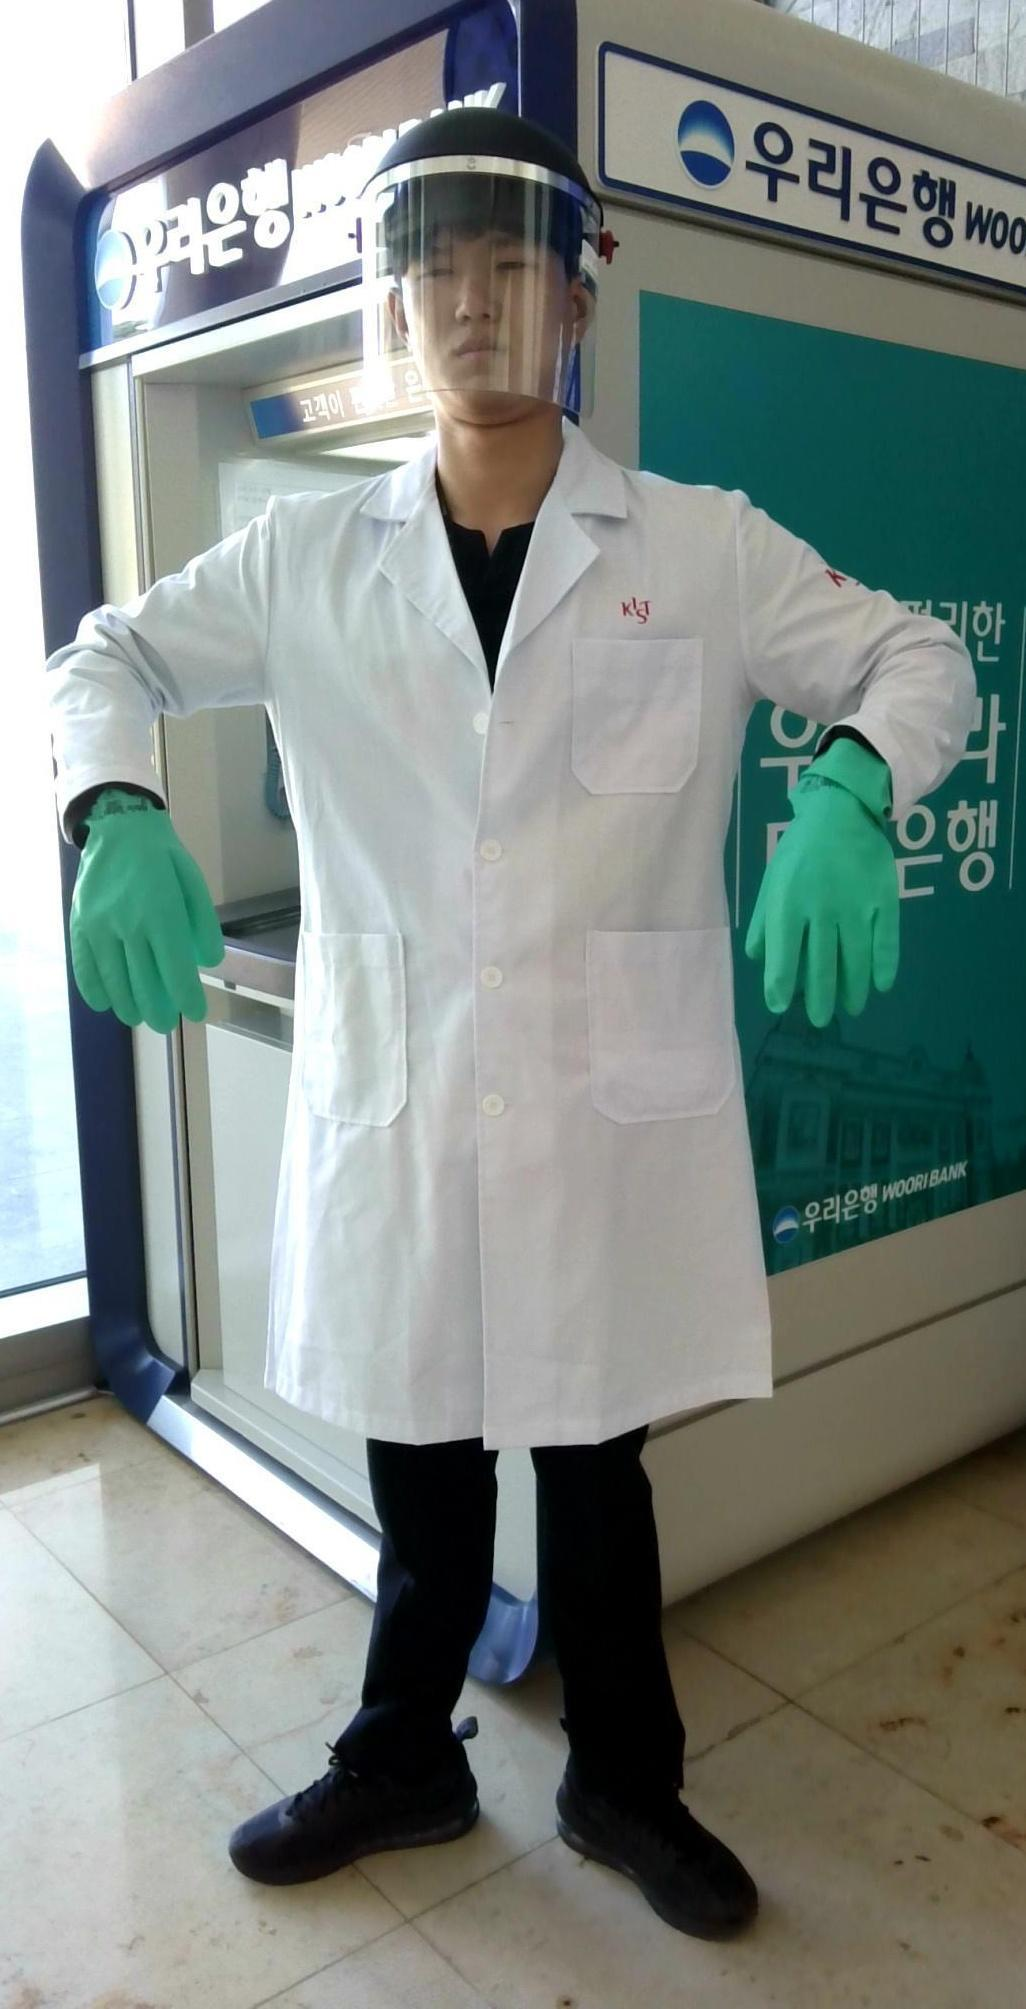lab_coat: (237, 517, 756, 1430)
